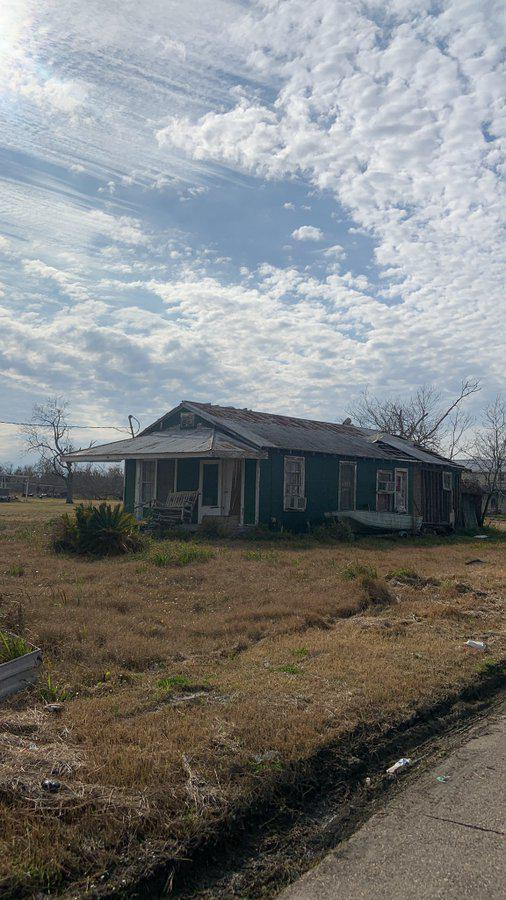minor: (66, 383, 506, 552)
